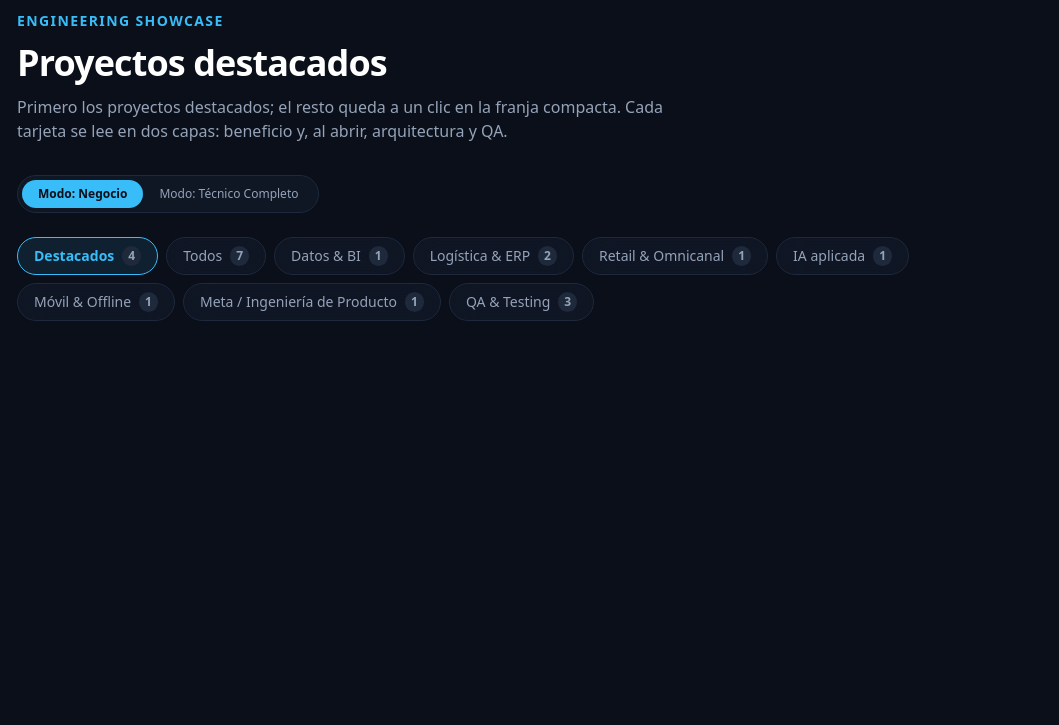
Test: Projects › el filtro Móvil & Offline lista solo sus proyectos en orden
Click the button "Móvil & Offline 1". click: (96, 302)
box: [17, 283, 175, 321]
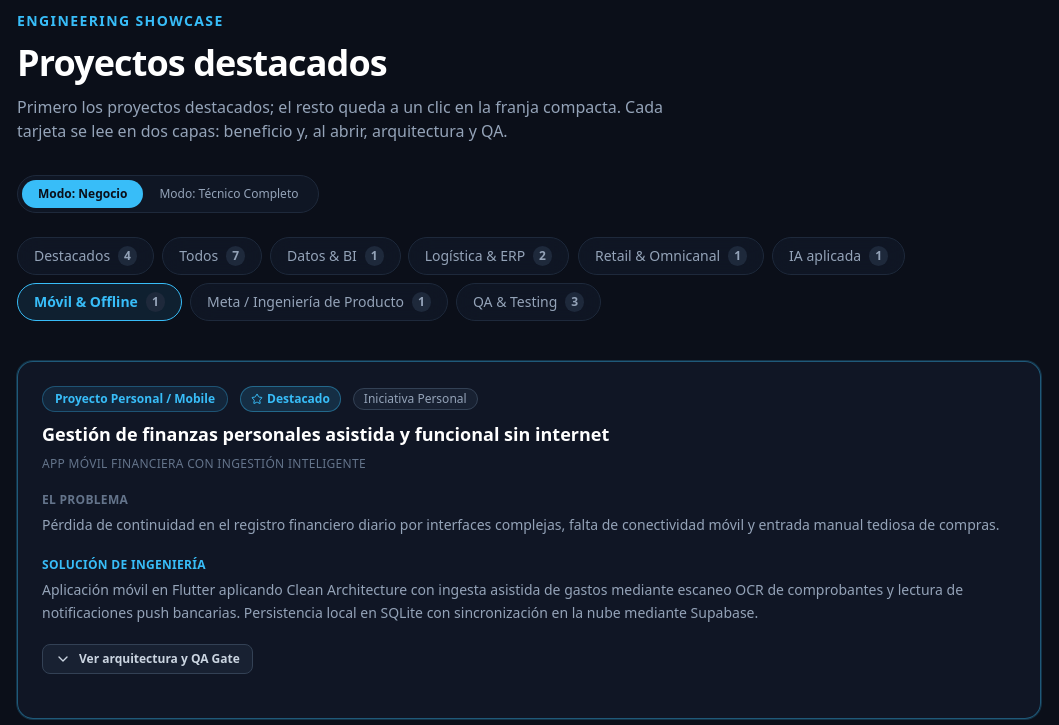
Expected: the headings read "Gestión de finanzas personales asistida y funcional sin internet", in this order, [42, 422, 609, 446]
